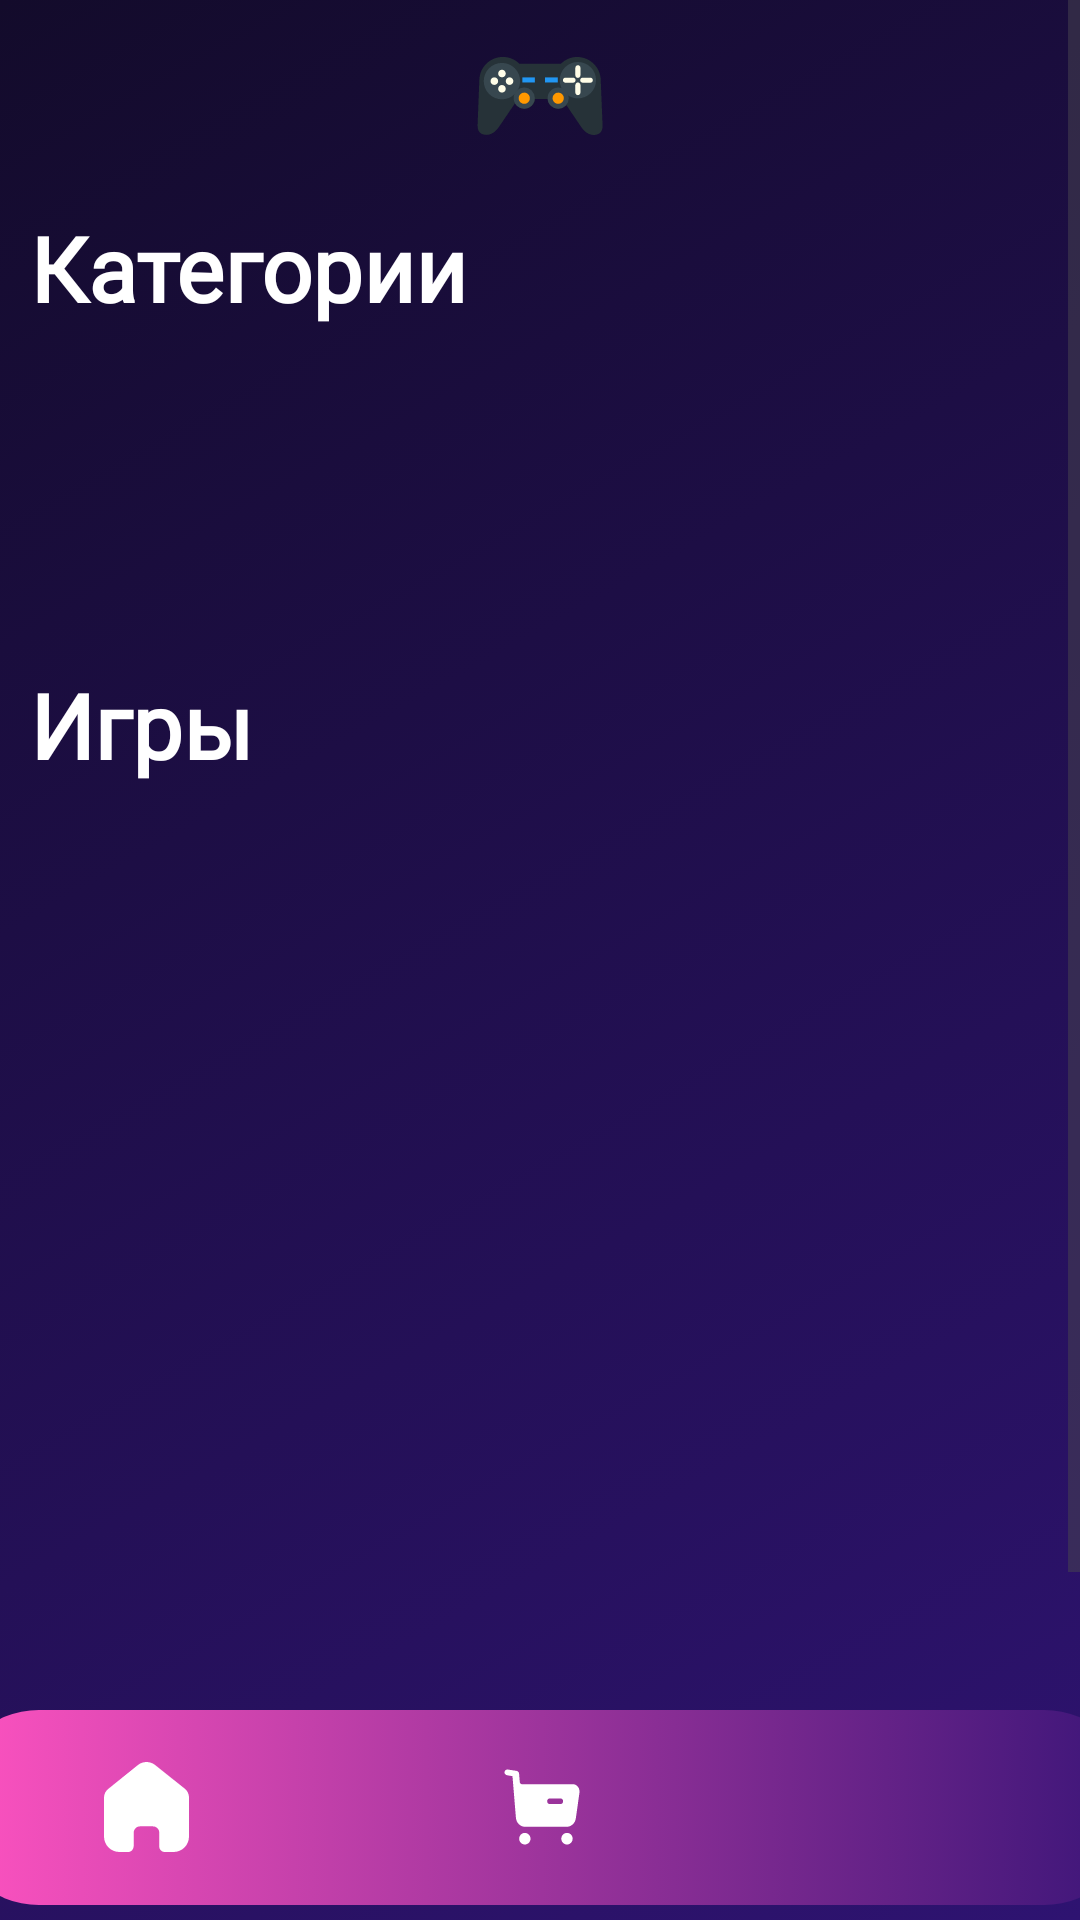

Screen size 1080 x 1920. Icon name, then its box in pixels as region(x1, y1, x2, y2):
game: region(478, 57, 602, 135)
